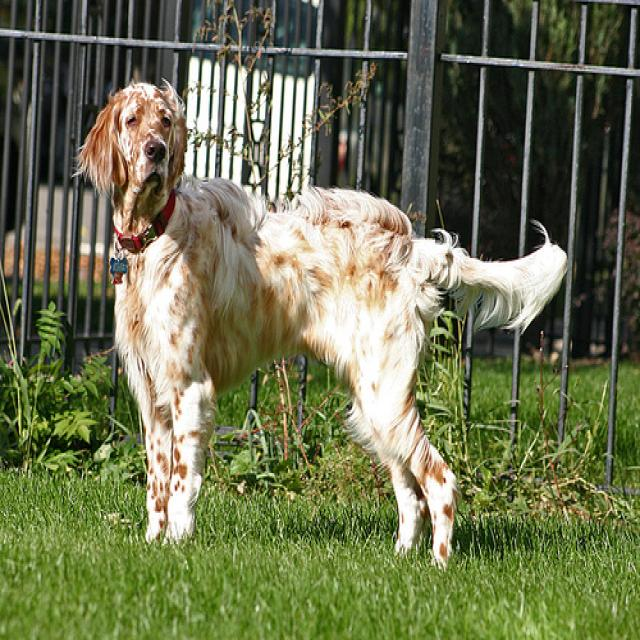dog: (78, 81, 184, 203)
